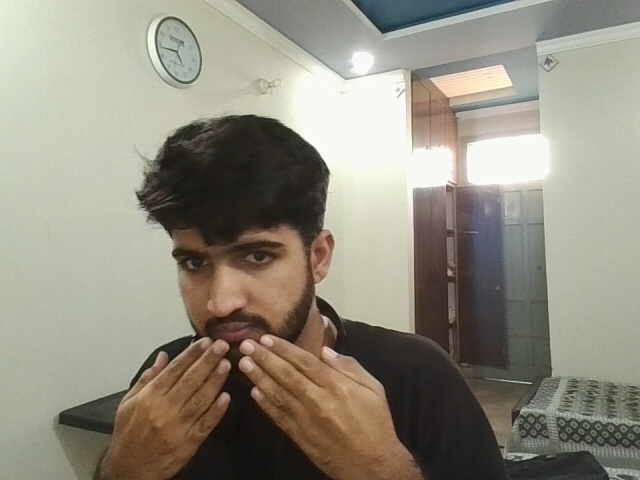Thanks: (103, 330, 424, 469)
